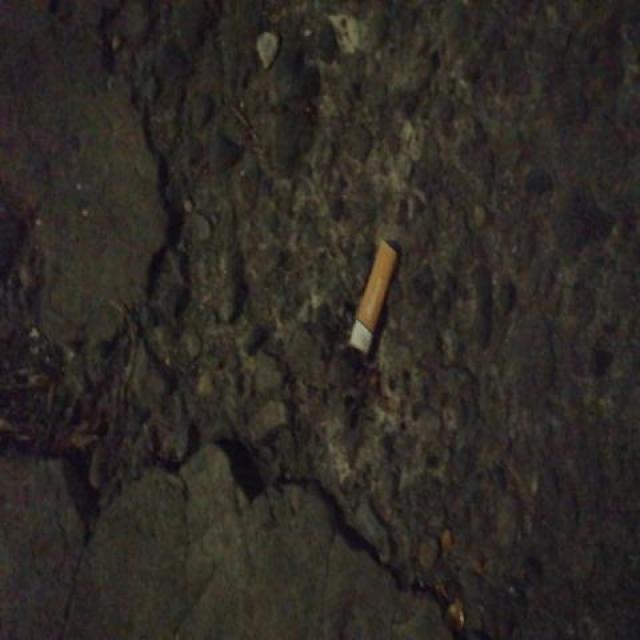non-organic waste: (344, 238, 400, 358)
